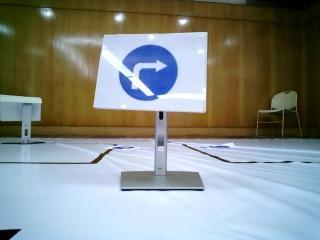right: (100, 34, 206, 108)
